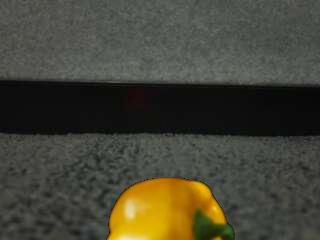Capsicum: (105, 175, 237, 240)
